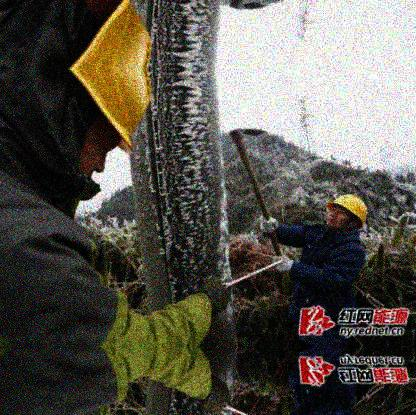helmet: (61, 70, 153, 189), (324, 194, 368, 232)
